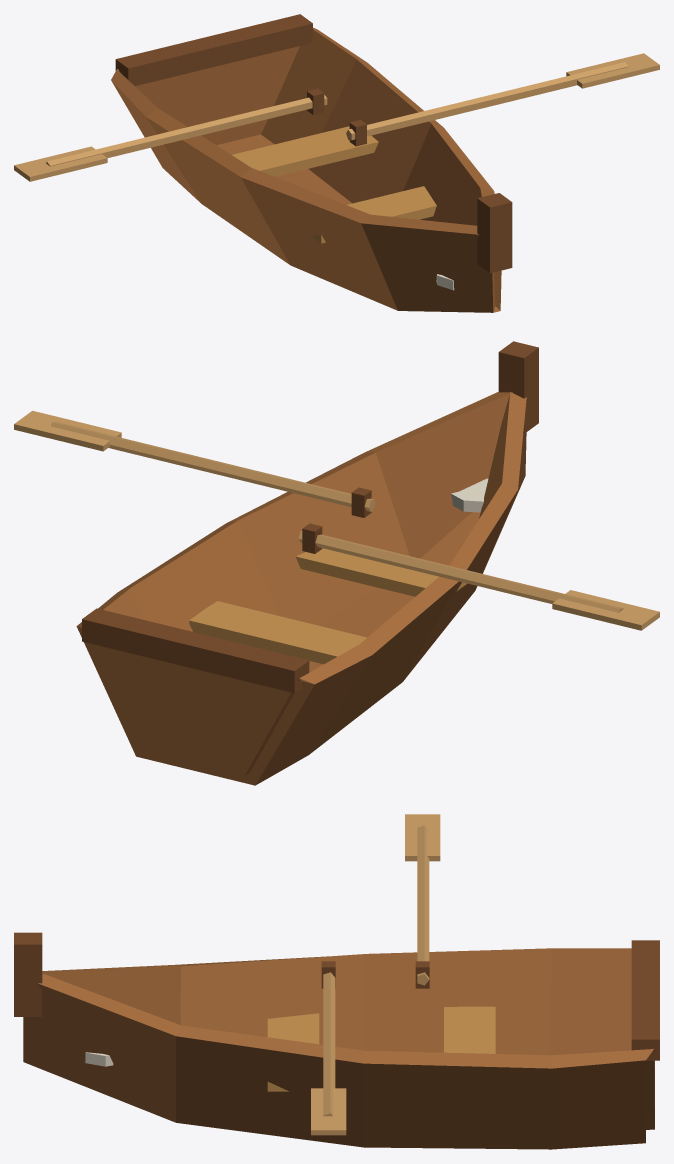
Rendered from prop_boat_v01.glb.
3 views of the same model, one above another, from view 1: azimuth 30°, elevation 25°; view 2: azimuth 150°, elevation 25°; view 3: azimuth 270°, elevation 25° (orthographic). The views are drawn at different scales.
Visible parts, largest first — view 1: prop_boat_v01; view 2: prop_boat_v01; view 3: prop_boat_v01.
Part boxes in pixels (left/top/right/bottom): prop_boat_v01: left=14, top=14, right=659, bottom=312; prop_boat_v01: left=14, top=341, right=659, bottom=785; prop_boat_v01: left=14, top=814, right=659, bottom=1149.
Bounding box in the file's own units: 3.18 × 0.85 × 2.75.
